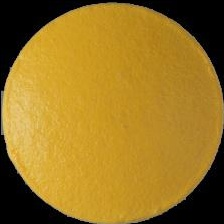21695-612: (0, 0, 224, 224)
